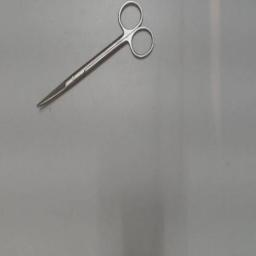Curved Mayo Scissors: (34, 0, 158, 112)
